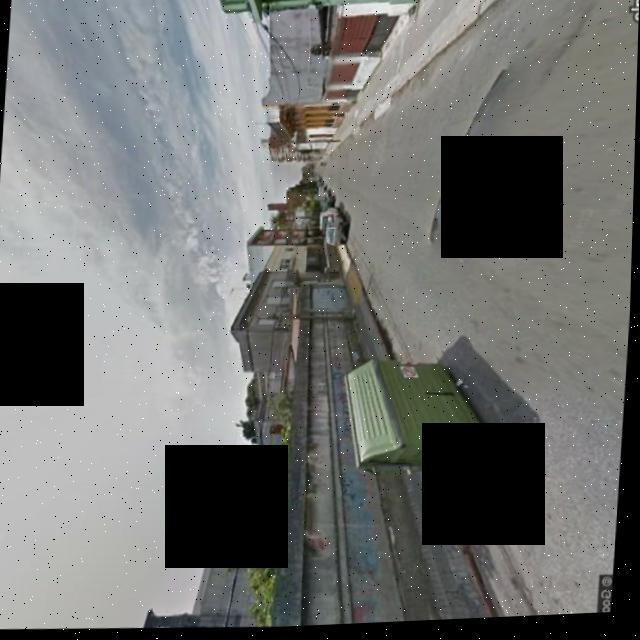bin: (332, 348, 515, 506)
